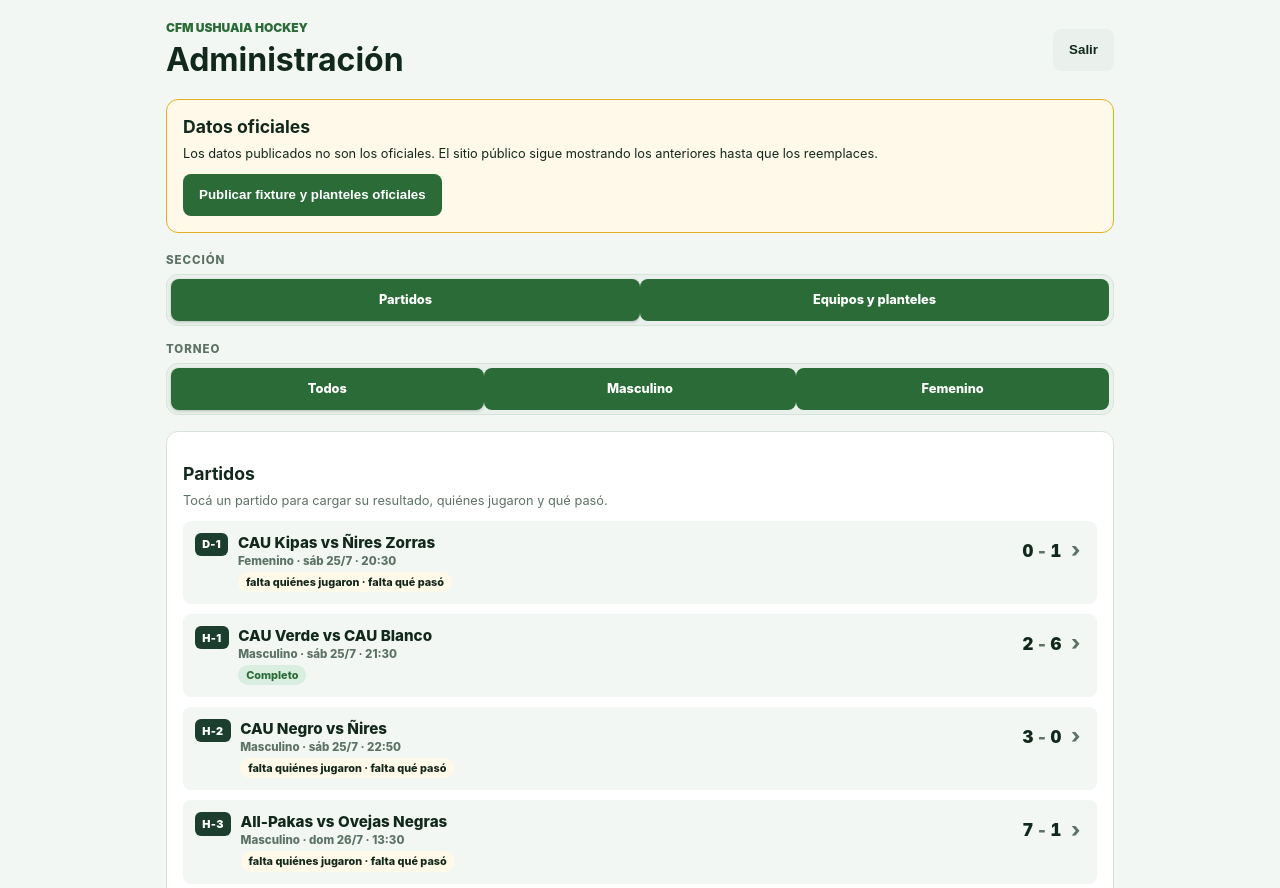
Test: AdminApp › when a match is opened › should unfold a step when its heading is used
The width and height of the screenshot is (1280, 888).
Expected: the heading "Partidos" is shown, top-left (183, 463), bottom-right (255, 484)
Click the button that starts with "H-1".
click(212, 638)  # box top-left (183, 614), bottom-right (1097, 697)
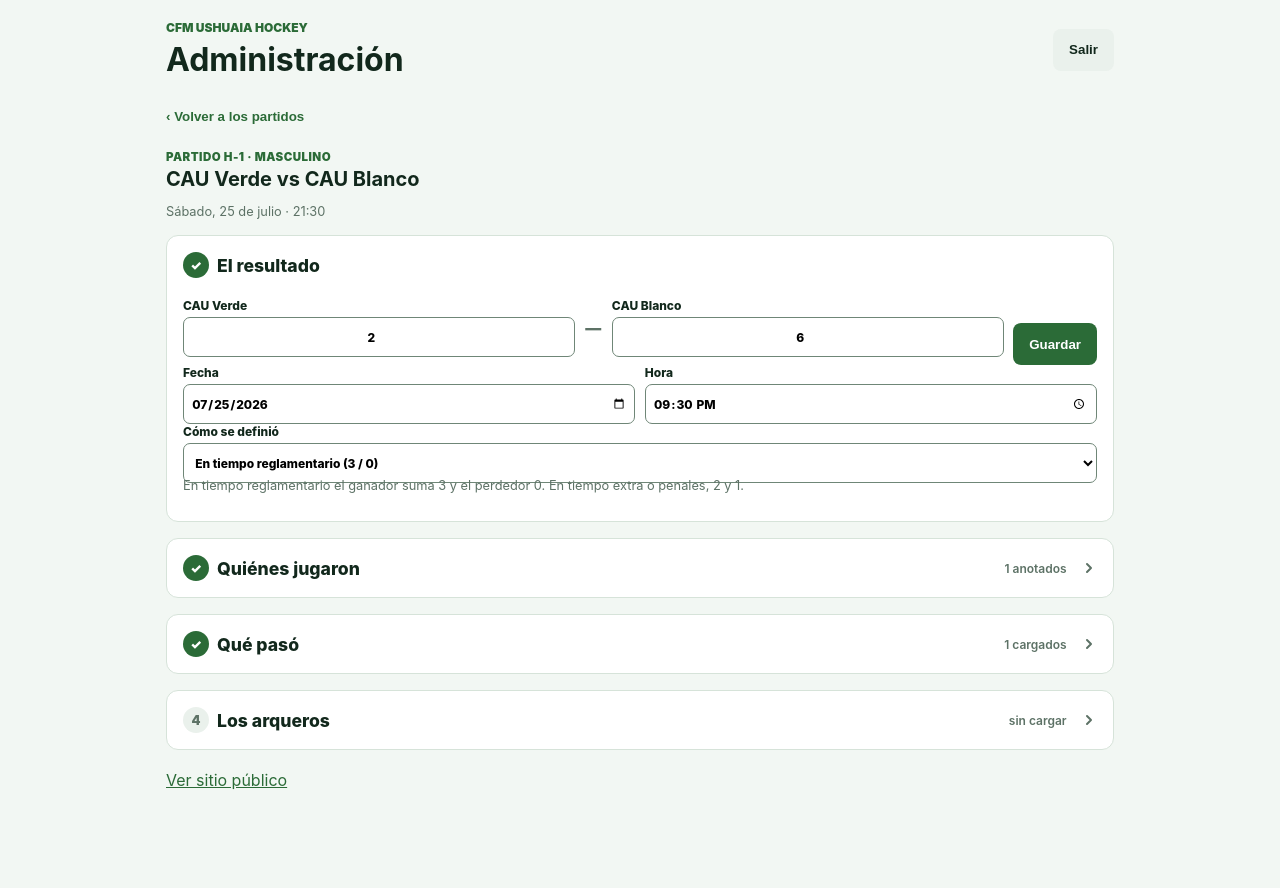
Expected: the heading "✓ Qué pasó 1 cargados" is shown
Click the button "✓ Qué pasó 1 cargados".
click(258, 644)  # box top-left (183, 631), bottom-right (1097, 657)
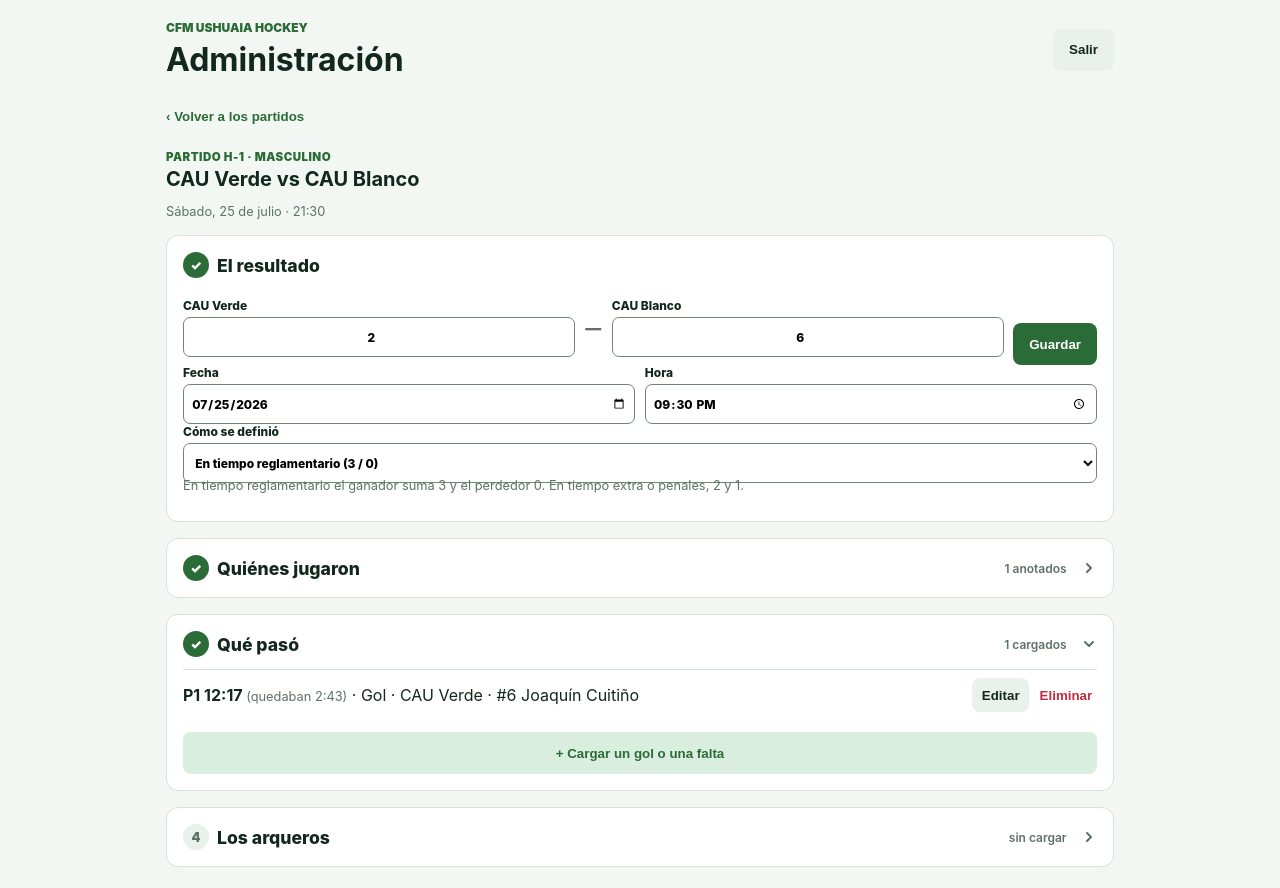
Expected: the button "Editar" is shown, top-left (972, 678), bottom-right (1029, 712)
